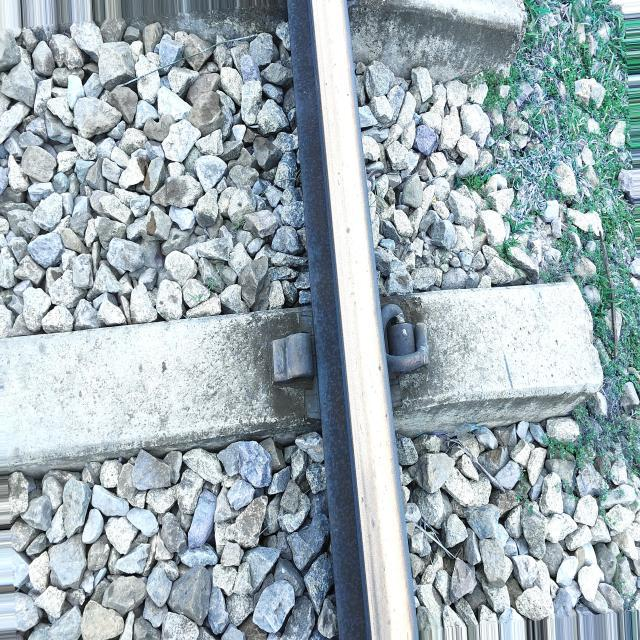Good Fasteners: (381, 304, 428, 372)
Missing Fastener: (259, 327, 314, 396)
